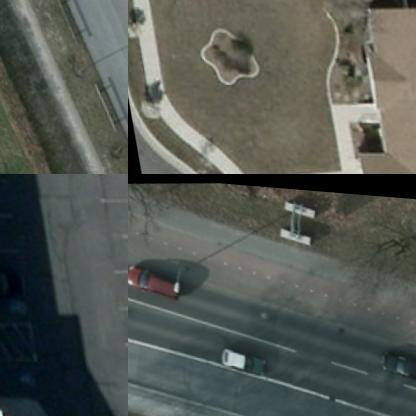car: (128, 253, 180, 299), (211, 334, 263, 375), (375, 338, 415, 379), (0, 260, 23, 301)
